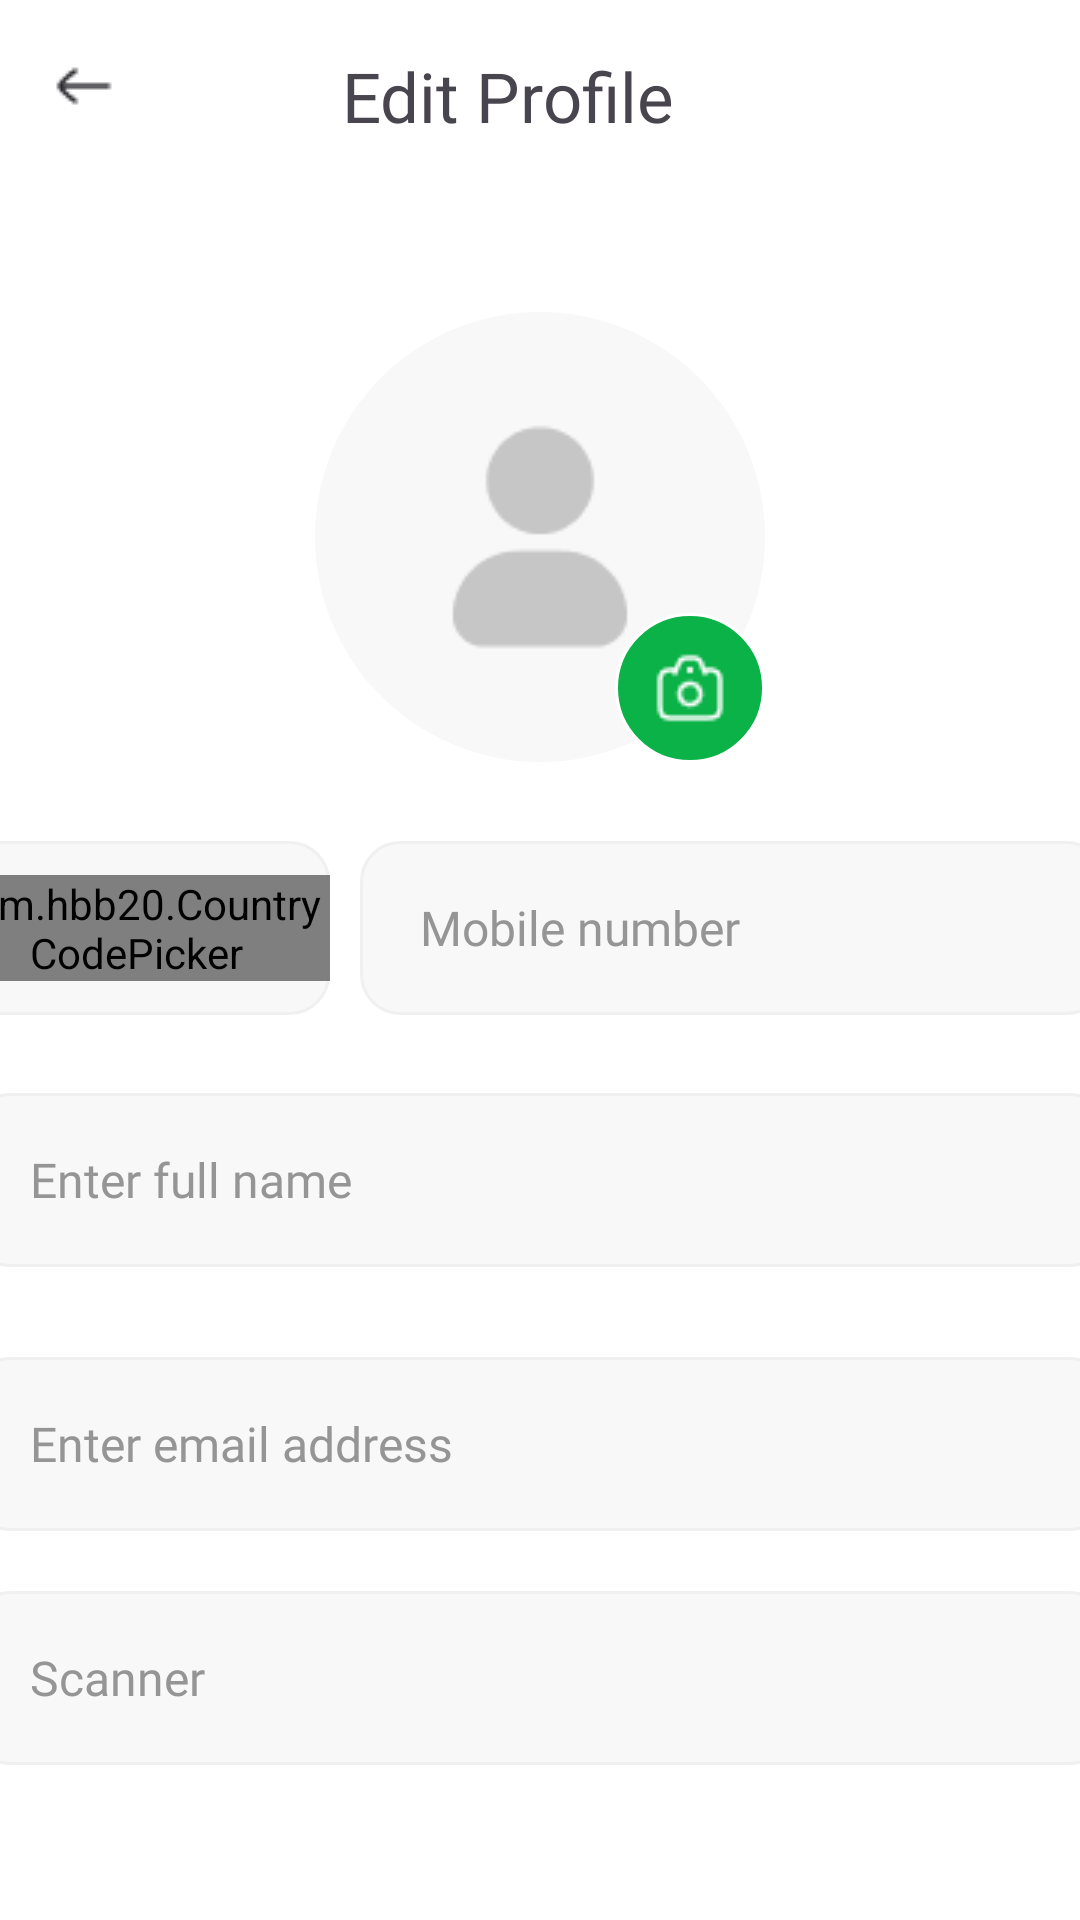

Where icons sit on this 1080 × 1920 app screen, as (left=x1, top=y1, right=x2, bottom=y2):
arrow left: (left=56, top=67, right=112, bottom=105)
camera: (left=656, top=654, right=724, bottom=722)
user: (left=453, top=427, right=627, bottom=647)
